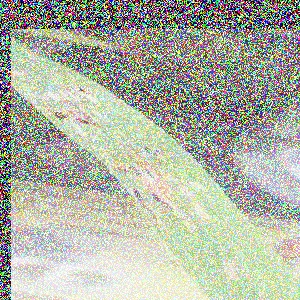Brown_Spot: (115, 187, 161, 227), (136, 134, 170, 167), (42, 104, 73, 138), (213, 262, 245, 291), (175, 173, 205, 198), (71, 107, 100, 130), (62, 80, 91, 101)
